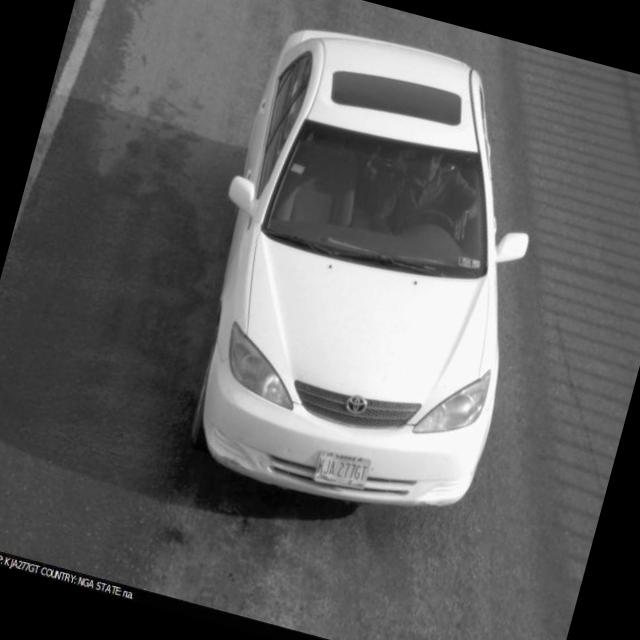person_with_seatbelt: (368, 137, 483, 260)
